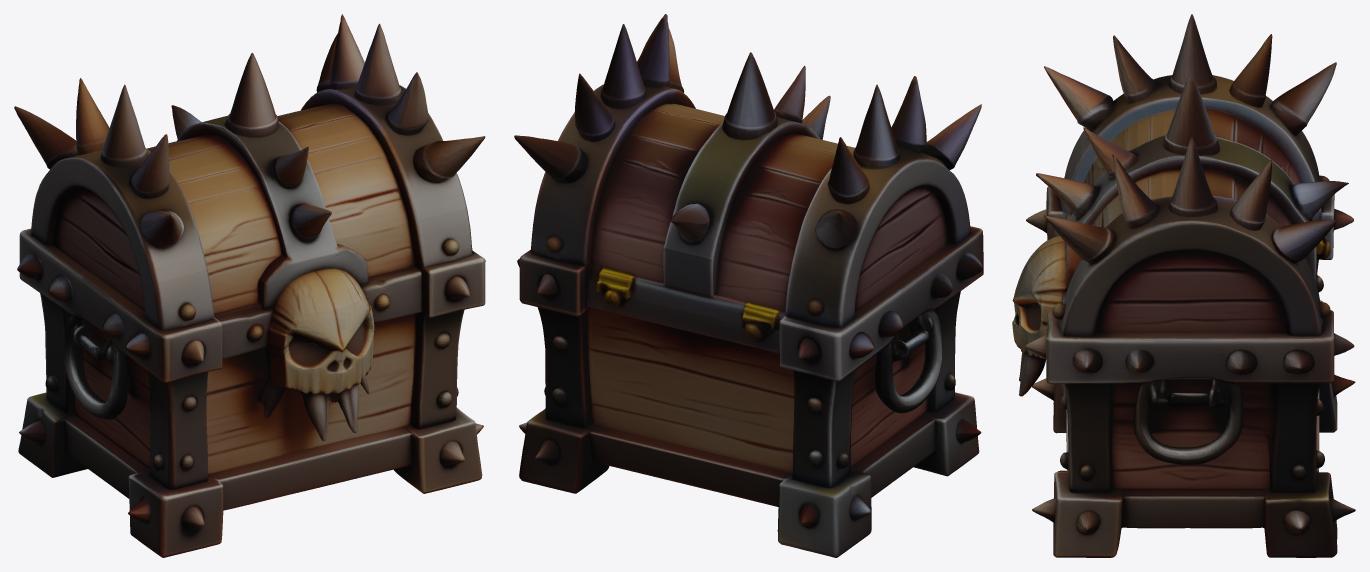
File: std_trellis_chest.glb
The picture shows the model from 3 angles, left to right: view 1: azimuth 30°, elevation 25°; view 2: azimuth 150°, elevation 25°; view 3: azimuth 270°, elevation 25°; orthographic projection.
Visible parts, largest first — view 1: world; view 2: world; view 3: world.
Part boxes in pixels (x1=…): world: x1=14, y1=14, x2=485, y2=557; world: x1=514, y1=14, x2=983, y2=557; world: x1=1012, y1=14, x2=1355, y2=557.
Bounding box in the file's own units: 0.9055 × 1 × 0.7627.
1 material, 1 textured.
